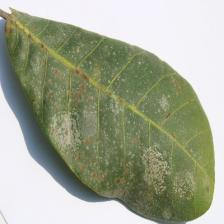red rust: (0, 4, 216, 223)
